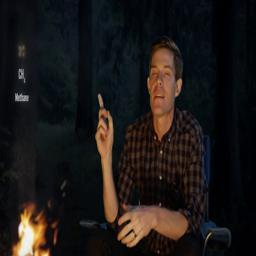fire: (13, 203, 58, 256)
